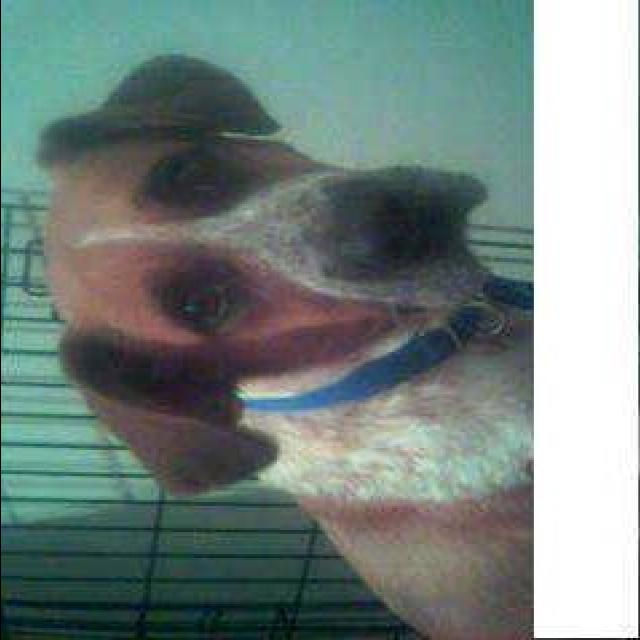dog: (0, 43, 531, 640)
